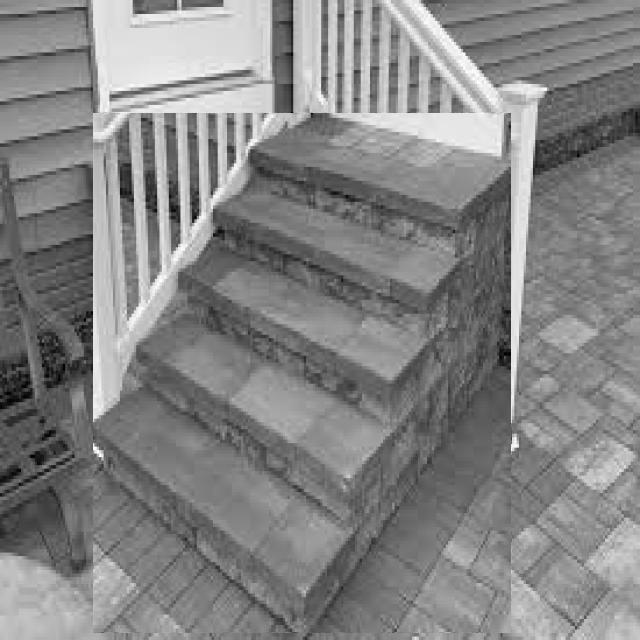stair: (93, 114, 511, 633)
